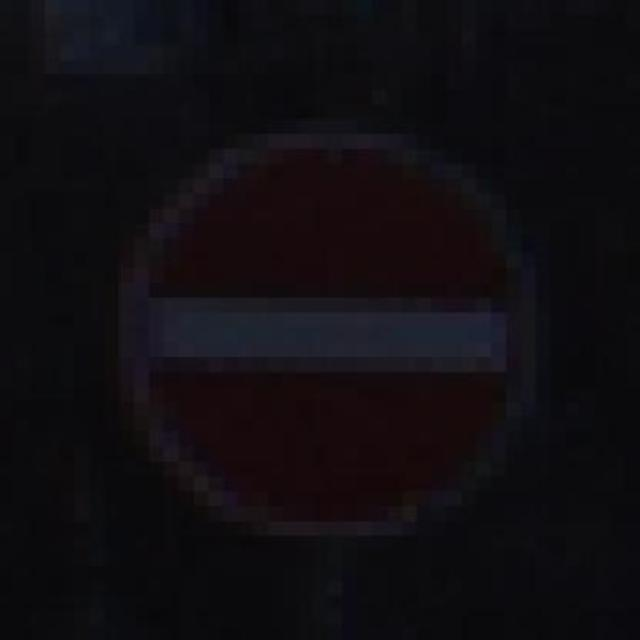B2: (110, 115, 540, 540)
